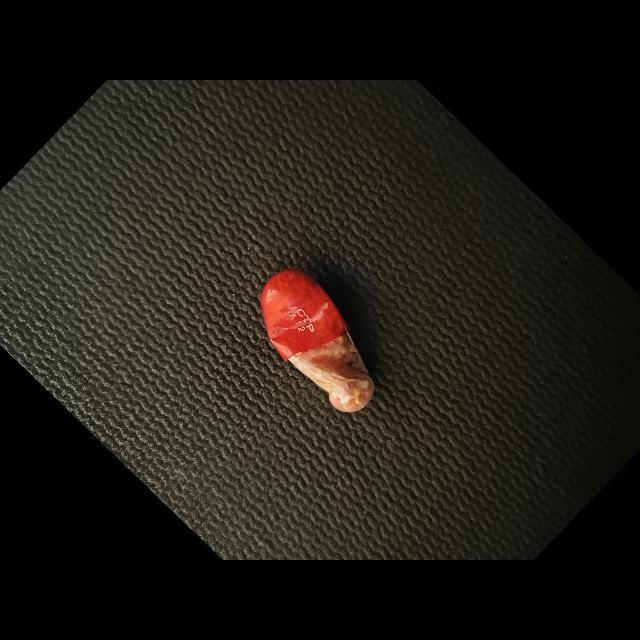Defective Capsule: (261, 269, 374, 413)
